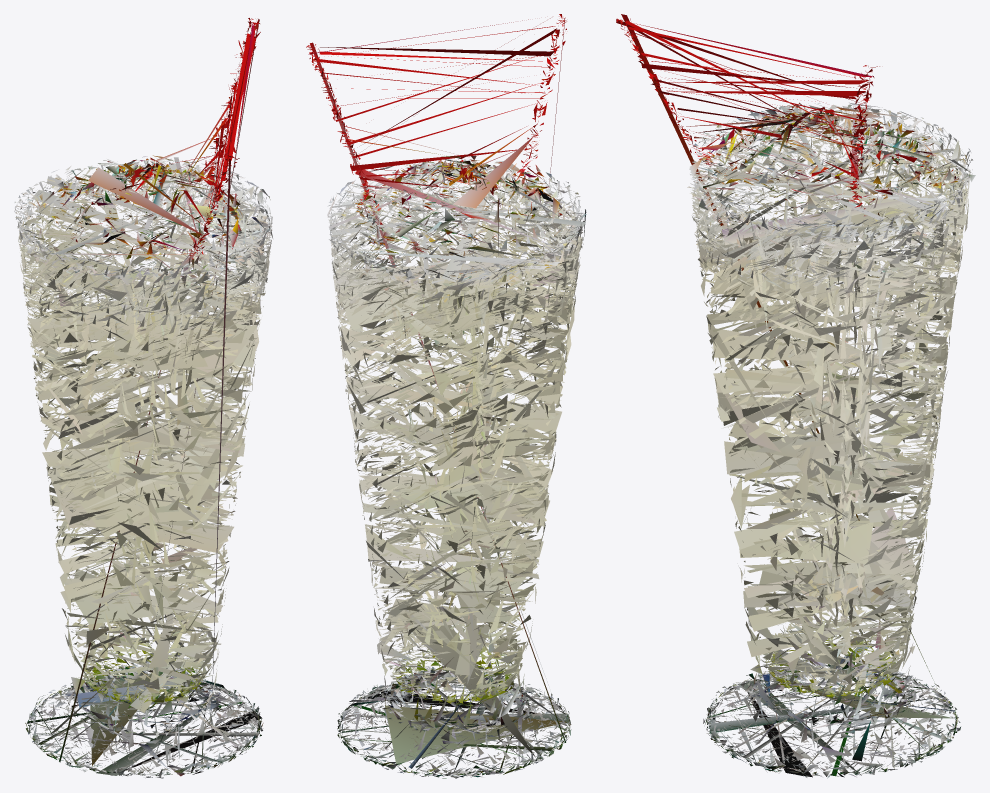
Rendered from frozenlemonade.glb.
3 renders of one model, left to right at view 1: azimuth 30°, elevation 25°; view 2: azimuth 150°, elevation 25°; view 3: azimuth 270°, elevation 25°, orthographic. The views are drawn at different scales.
Parts seen in each view (by area): view 1: Ref; view 2: Ref; view 3: Ref.
Boxes of the visible parts, x1=… form: Ref: x1=14, y1=18, x2=272, y2=778; Ref: x1=306, y1=14, x2=586, y2=778; Ref: x1=616, y1=14, x2=975, y2=778.
Size of the model in its own units: 0.708 by 1.81 by 0.8096.
